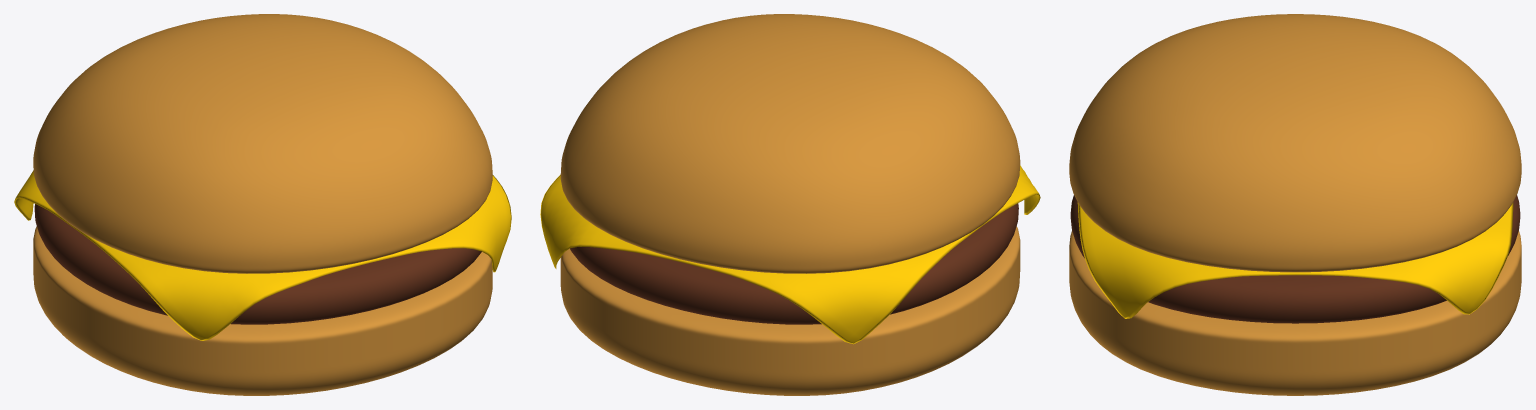
File: hamburger.glb
3 views of the same model, side by side, from view 1: azimuth 30°, elevation 25°; view 2: azimuth 150°, elevation 25°; view 3: azimuth 270°, elevation 25° (orthographic).
Parts seen in each view (by area): view 1: Cube.002, Cube, Cube.001, Plane; view 2: Cube.002, Cube, Cube.001, Plane; view 3: Cube.002, Cube, Plane, Cube.001.
Part boxes in pixels (x1=…): Cube.002: x1=33, y1=14, x2=492, y2=273; Cube: x1=33, y1=226, x2=492, y2=395; Cube.001: x1=34, y1=204, x2=481, y2=324; Plane: x1=14, y1=170, x2=511, y2=340; Cube.002: x1=560, y1=14, x2=1020, y2=273; Cube: x1=560, y1=226, x2=1020, y2=395; Cube.001: x1=570, y1=203, x2=1018, y2=324; Plane: x1=540, y1=165, x2=1040, y2=344; Cube.002: x1=1069, y1=14, x2=1521, y2=272; Cube: x1=1069, y1=230, x2=1521, y2=395; Plane: x1=1077, y1=202, x2=1513, y2=318; Cube.001: x1=1070, y1=195, x2=1520, y2=323.
Size of the model in its own units: 5.54 by 3.74 by 5.54.
